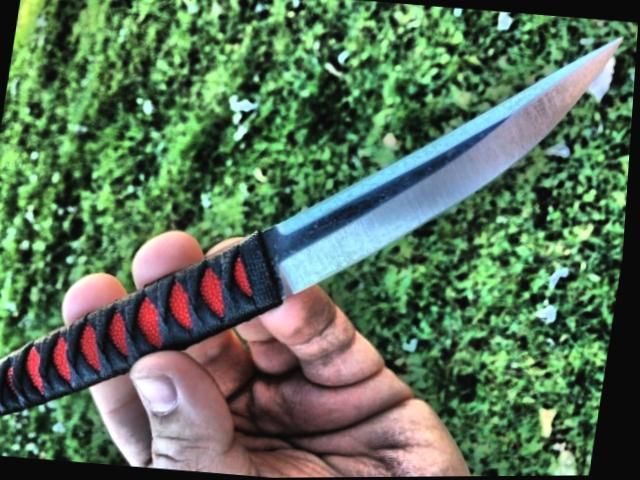knife: (44, 0, 633, 466)
